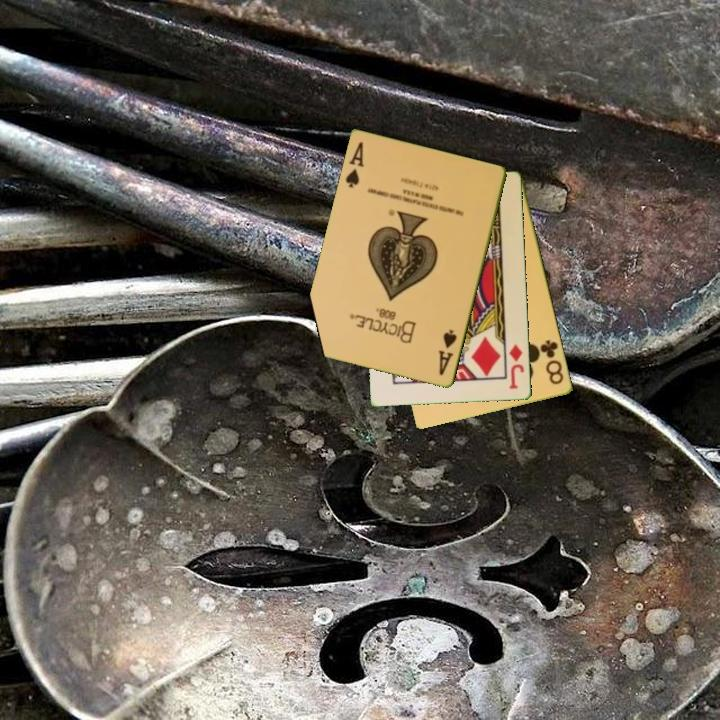8c: (537, 336, 567, 388)
As: (435, 326, 460, 379), (342, 138, 367, 191)
Jd: (506, 341, 527, 392)
